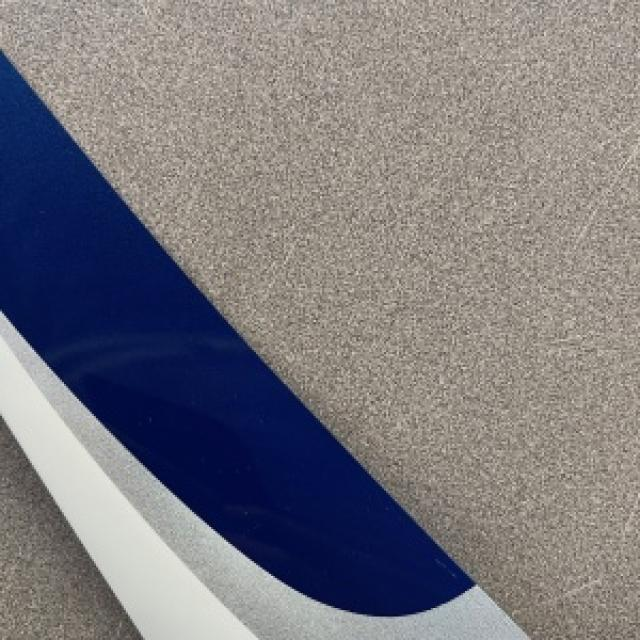healthy: (0, 427, 132, 638)
